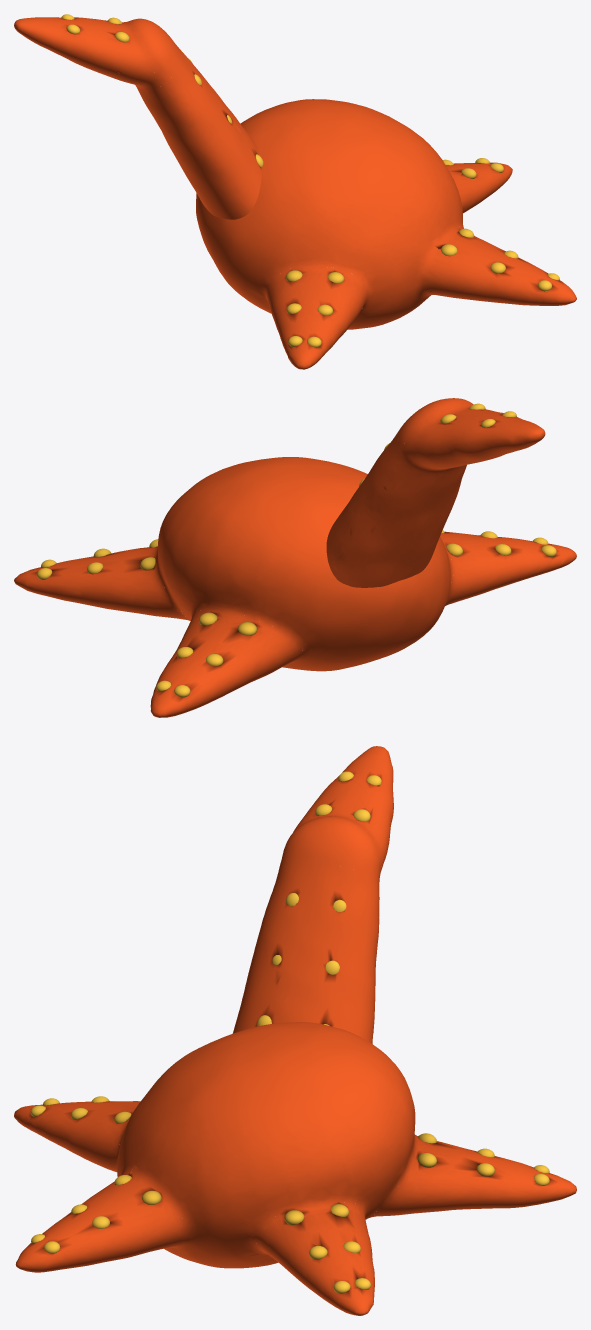
Rendered from ha-en-bra-dag.glb.
The picture shows the model from 3 angles, top to bottom: view 1: azimuth 30°, elevation 25°; view 2: azimuth 150°, elevation 25°; view 3: azimuth 270°, elevation 25°; orthographic projection. The views are drawn at different scales.
Parts seen in each view (by area): view 1: estrela__r0, bracoUm__r0; view 2: estrela__r0, bracoUm__r0; view 3: estrela__r0, bracoUm__r0.
Boxes of the visible parts, x1,y1,x2,y2 form: estrela__r0: [196, 99, 576, 369]; bracoUm__r0: [14, 17, 261, 219]; estrela__r0: [14, 457, 576, 717]; bracoUm__r0: [326, 398, 545, 587]; estrela__r0: [14, 1022, 576, 1315]; bracoUm__r0: [233, 746, 393, 1043].
Bounding box in the file's own units: 2.5 × 1.53 × 2.18.
